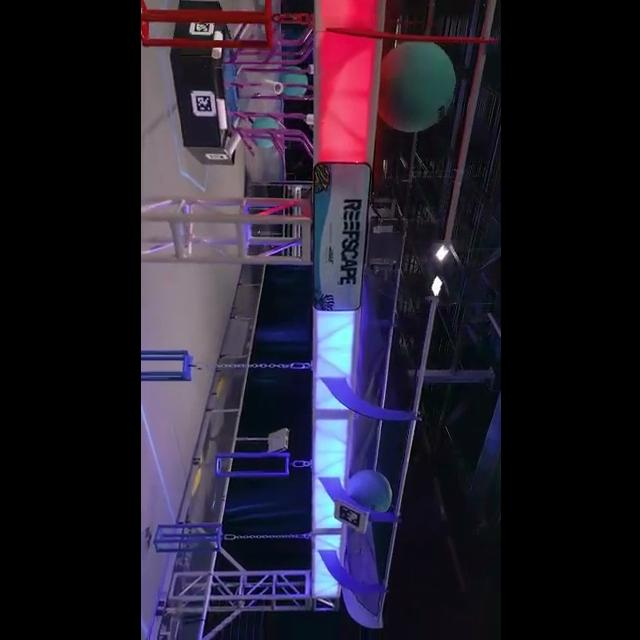ALGAE: (377, 39, 457, 132), (345, 471, 391, 519)
